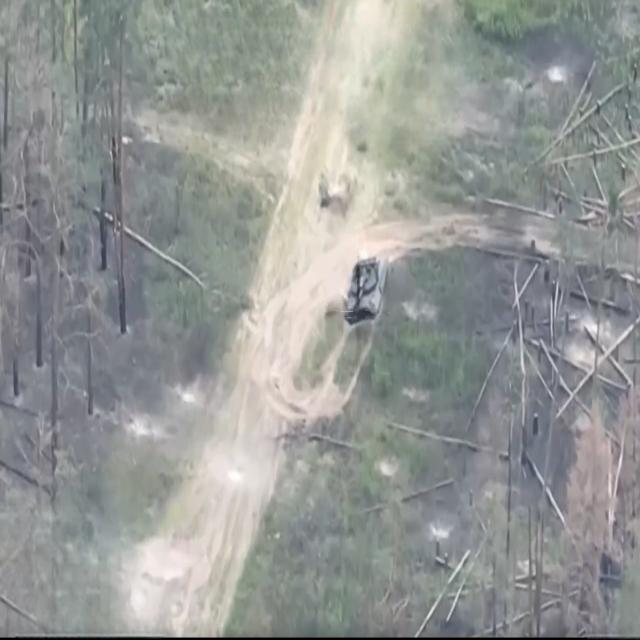MBT: (342, 254, 389, 327)
